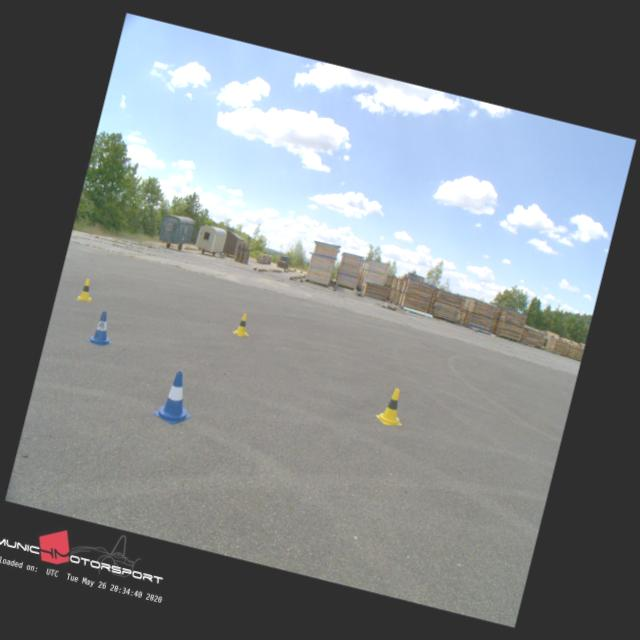blue_cone: (151, 366, 200, 426), (86, 308, 118, 346)
yellow_cone: (374, 384, 410, 428), (231, 311, 254, 337), (76, 277, 96, 302)
